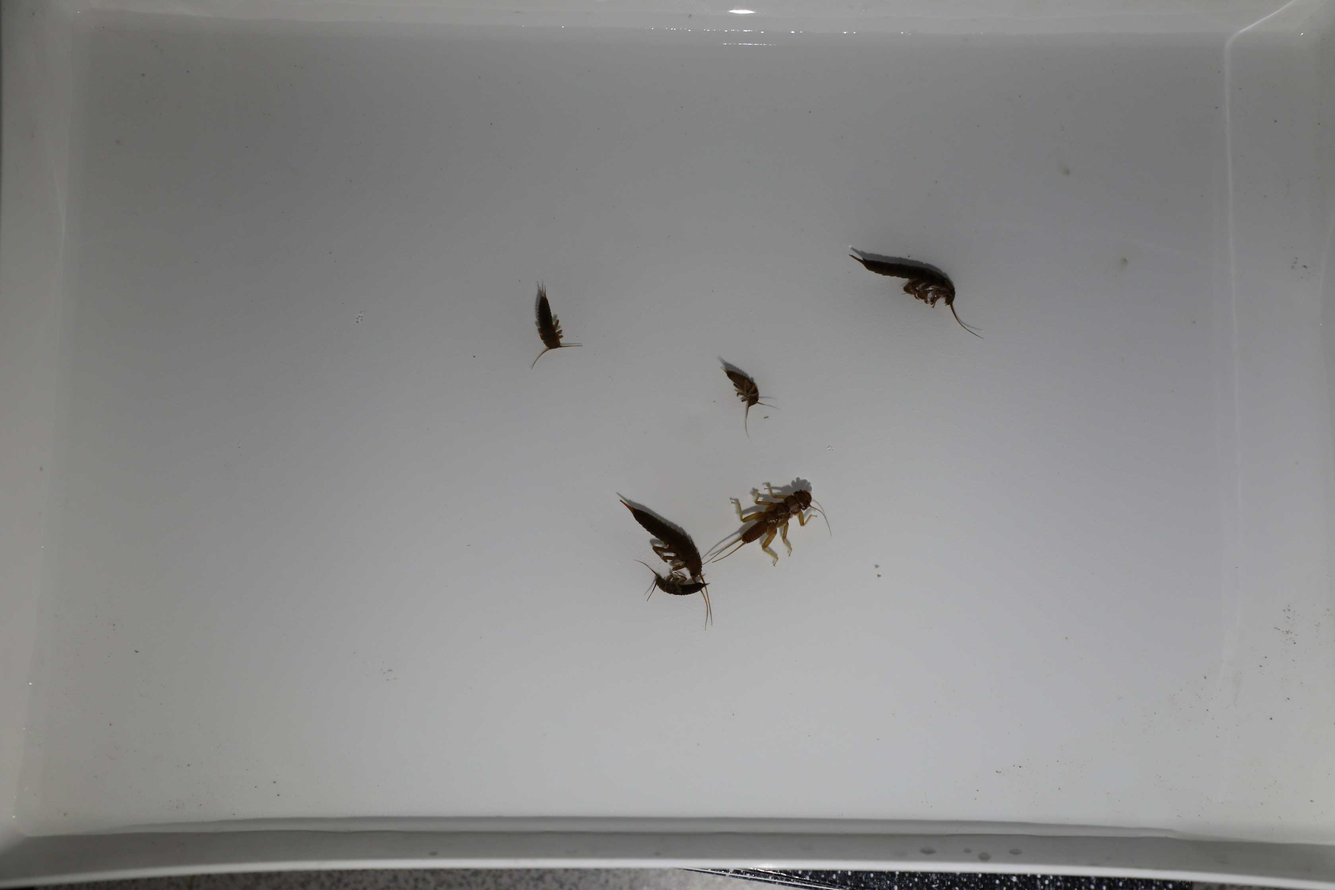Stonefly: (842, 241, 982, 345), (707, 481, 817, 563), (614, 494, 703, 583), (518, 276, 580, 372), (720, 358, 769, 441), (631, 566, 705, 604)
